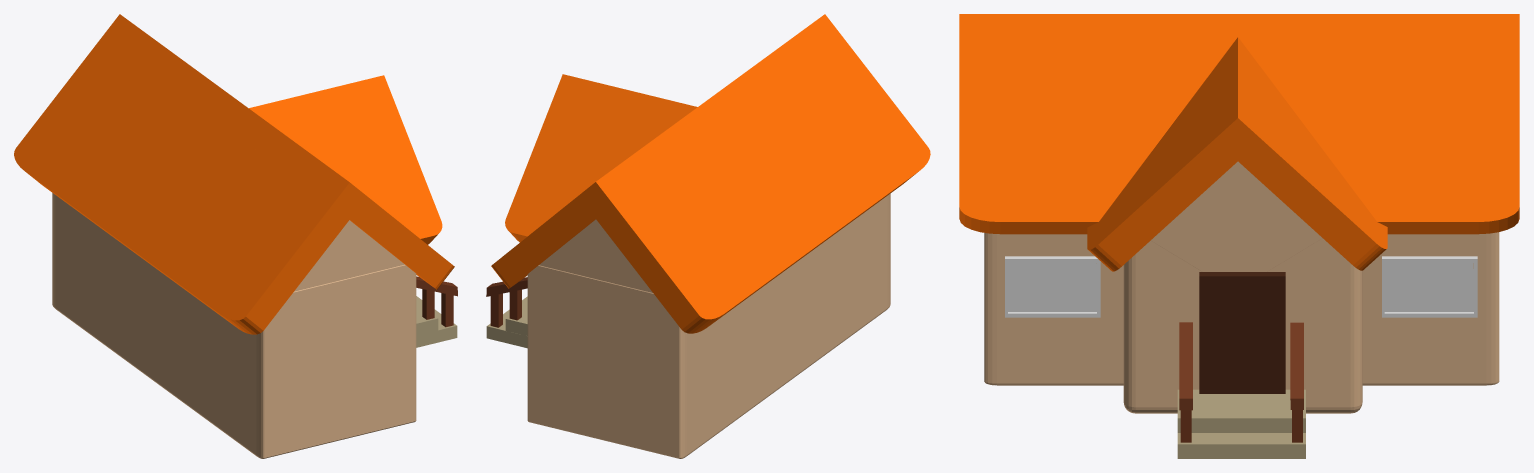
Rendered from orangehouse.fbx.
The picture shows the model from 3 angles, left to right: view 1: azimuth 30°, elevation 25°; view 2: azimuth 150°, elevation 25°; view 3: azimuth 270°, elevation 25°; orthographic projection. The views are drawn at different scales.
Visible parts, largest first — view 1: Cube.027, Cube.028, Cube.029, Cube.031, Cube.032; view 2: Cube.027, Cube.028, Cube.029, Cube.031; view 3: Cube.027, Cube.026, Cube.028, Cube.029, Cube.033, Plane.016, Plane.015, Cube.032, Cube.031, Cube.052, Cube.051, Cube.036 (+1 smaller).
Part boxes in pixels (x1,y1,x2,y2): Cube.027: (14, 14, 454, 334); Cube.028: (52, 193, 416, 458); Cube.029: (249, 75, 442, 244); Cube.031: (416, 296, 457, 347); Cube.032: (416, 302, 438, 335); Cube.027: (491, 14, 930, 333); Cube.028: (527, 193, 890, 458); Cube.029: (505, 74, 697, 242); Cube.031: (486, 296, 527, 348); Cube.027: (959, 14, 1519, 234); Cube.026: (1123, 161, 1362, 413); Cube.028: (984, 232, 1499, 385); Cube.029: (1087, 37, 1387, 271); Cube.033: (1199, 272, 1285, 393); Plane.016: (1384, 263, 1473, 311); Plane.015: (1008, 263, 1096, 311); Cube.032: (1177, 389, 1305, 432); Cube.031: (1177, 433, 1305, 458); Cube.052: (1382, 256, 1477, 317); Cube.051: (1005, 256, 1100, 317); Cube.036: (1179, 322, 1192, 410).
Size of the model in its own units: 757 by 627 by 971.
